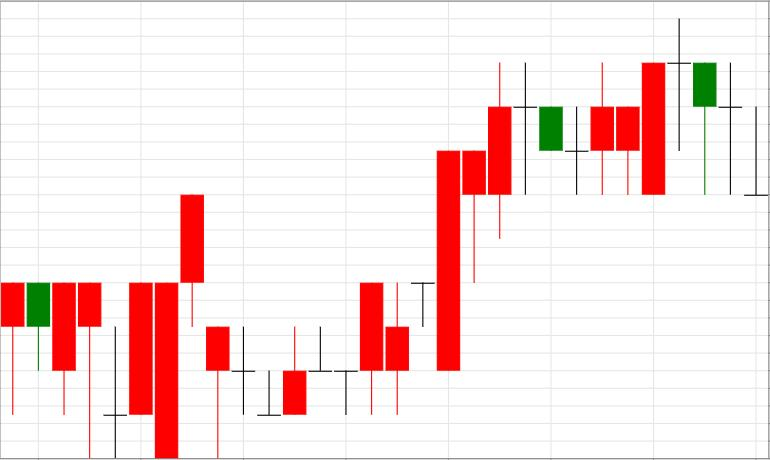evening_star_fall: (386, 63, 563, 414)
